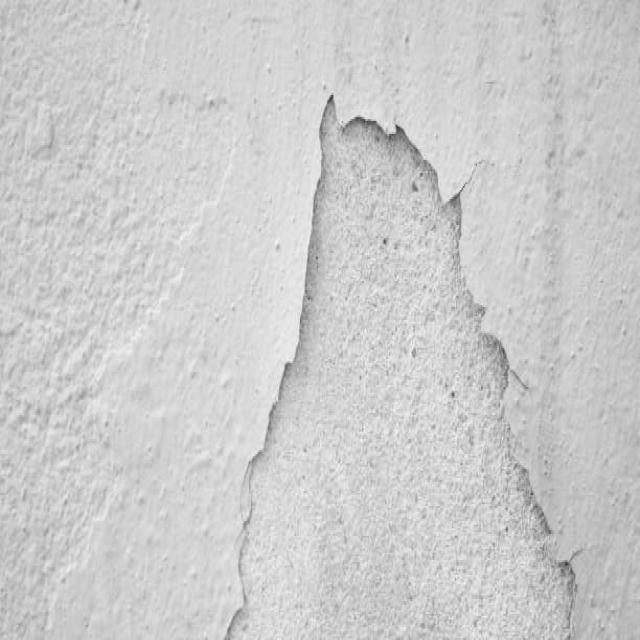peeling paint: (218, 80, 594, 640)
